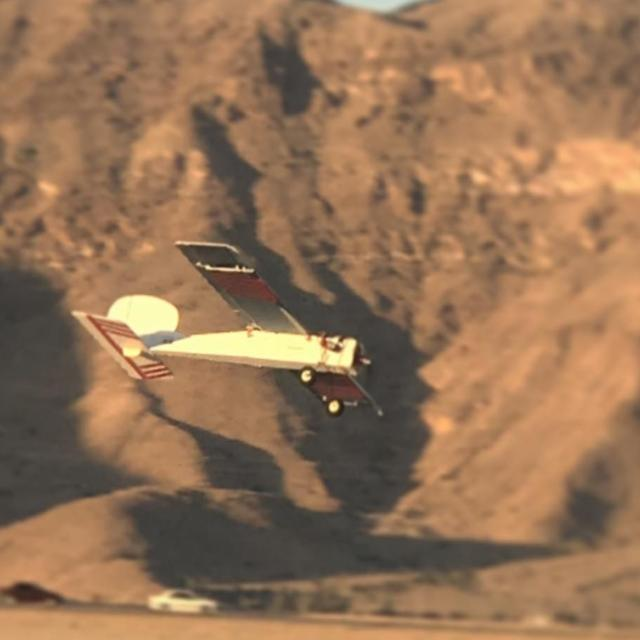iha: (68, 229, 390, 421)
